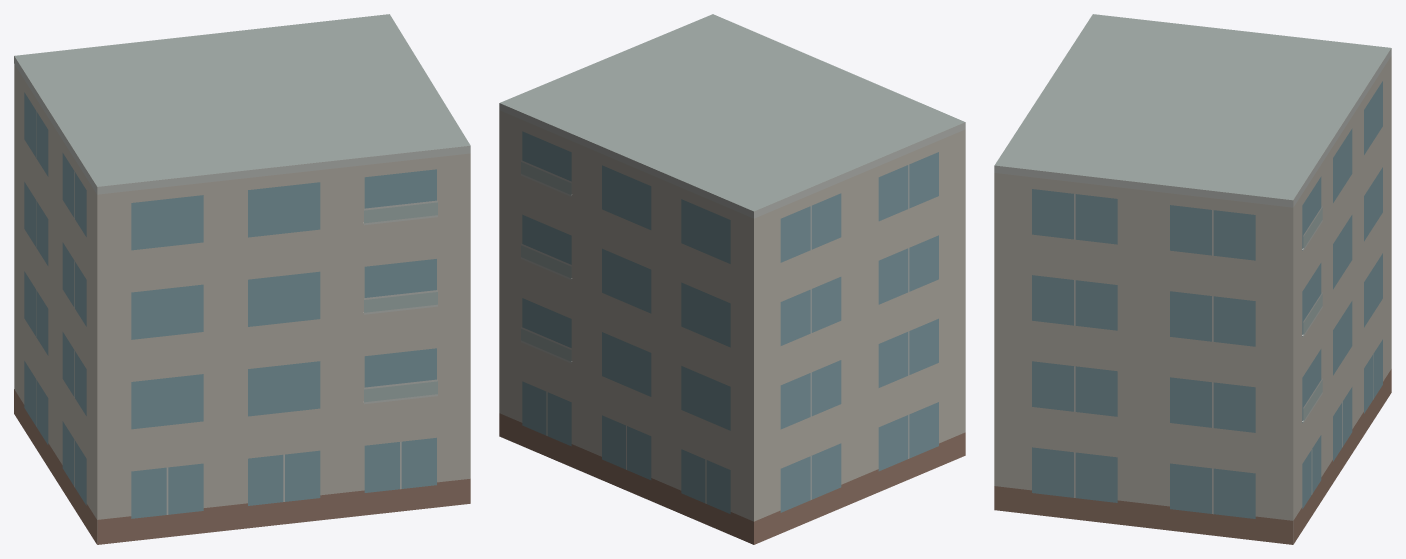
Rendered from survey-upis-32655031.glb.
3 views of the same model, side by side, from view 1: azimuth 30°, elevation 25°; view 2: azimuth 150°, elevation 25°; view 3: azimuth 270°, elevation 25° (orthographic). The views are drawn at different scales.
Parts seen in each view (by area): view 1: survey-upis-32655031.tmp; view 2: survey-upis-32655031.tmp; view 3: survey-upis-32655031.tmp.
Part boxes in pixels (left/top/right/bottom): survey-upis-32655031.tmp: left=14, top=14, right=470, bottom=544; survey-upis-32655031.tmp: left=499, top=14, right=965, bottom=544; survey-upis-32655031.tmp: left=994, top=14, right=1391, bottom=544.
Size of the model in its own units: 13.11 by 11.3 by 11.82.
